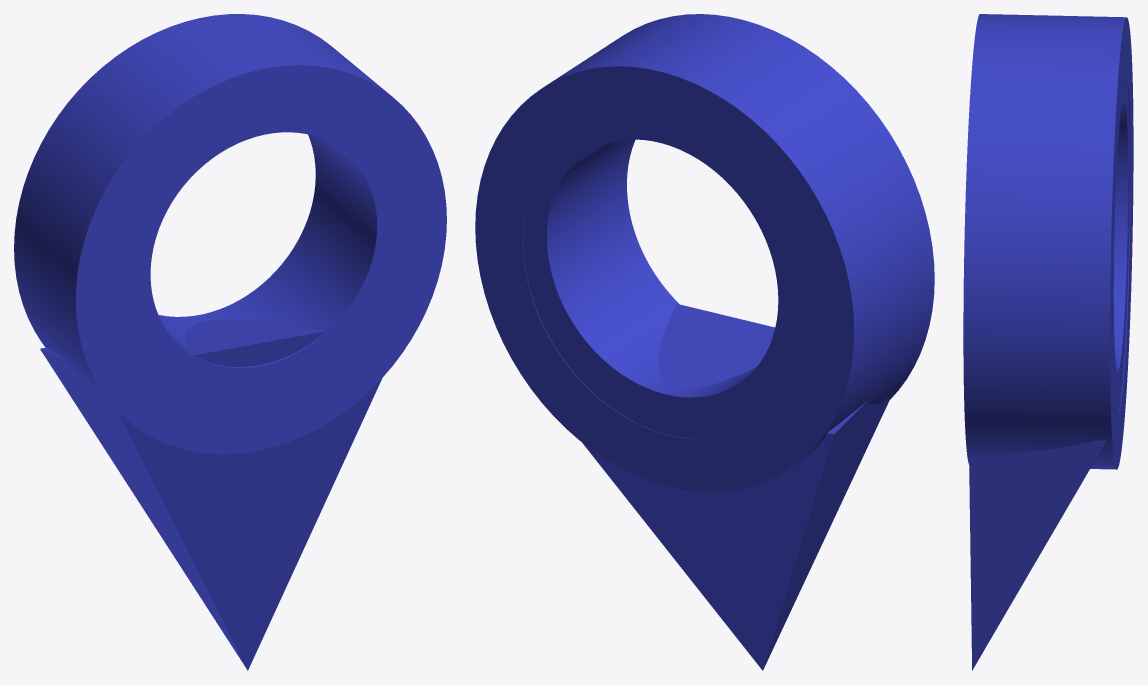
Rendered from gps.fbx.
The picture shows the model from 3 angles, left to right: view 1: azimuth 30°, elevation 25°; view 2: azimuth 150°, elevation 25°; view 3: azimuth 270°, elevation 25°; orthographic projection. The views are drawn at different scales.
Parts seen in each view (by area): view 1: root (×3); view 2: root (×3); view 3: root (×3).
Part boxes in pixels (<box>): root (×3): <box>14,14,446,670</box>; root (×3): <box>475,14,934,670</box>; root (×3): <box>963,14,1133,670</box>.
Size of the model in its own units: 0.1271 by 0.1979 by 0.0474.
